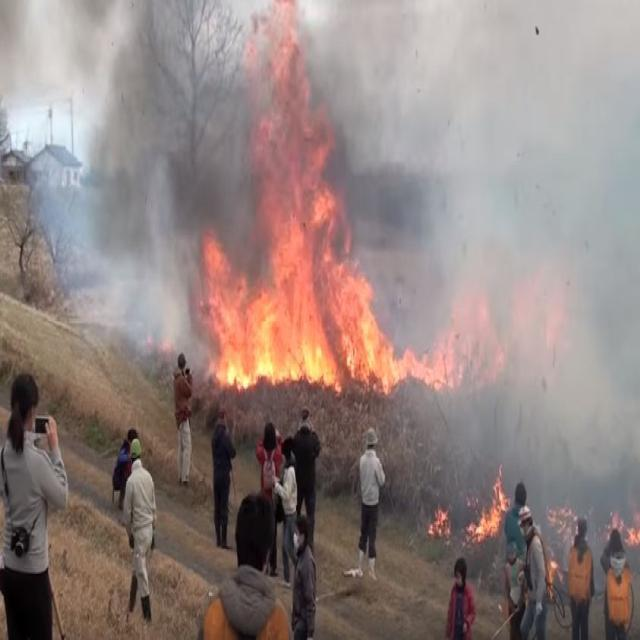Fire: (198, 0, 348, 390), (348, 270, 506, 390), (467, 466, 510, 544), (549, 506, 578, 562), (610, 512, 640, 548), (428, 510, 452, 542), (548, 560, 564, 602)
Smoke: (350, 0, 638, 269), (54, 0, 198, 350), (507, 272, 640, 510)
